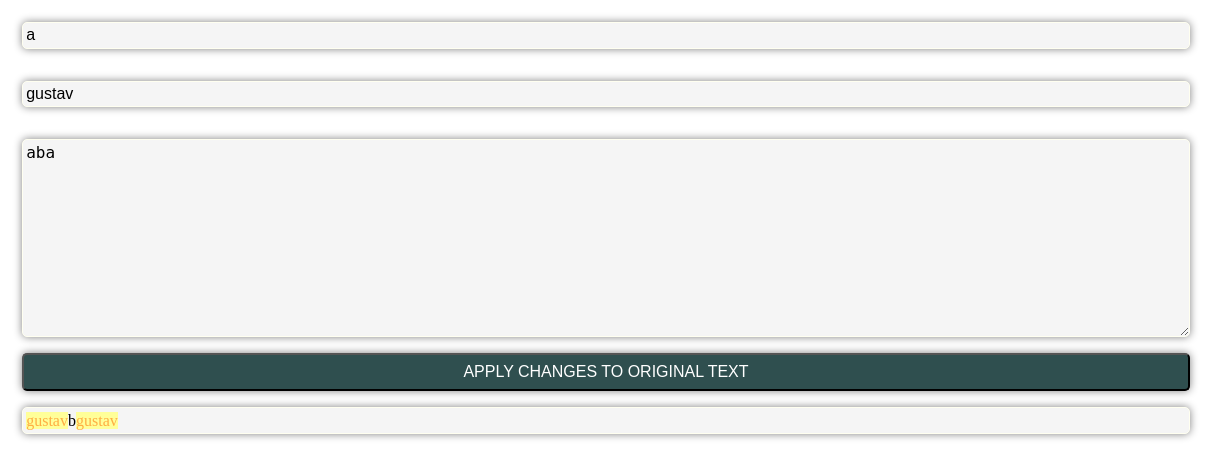
Test: FindAndReplace component › it should have the necessary components › has on mount a button that execute the change on the original text
Click the button with test id "make-replace-button" at (606, 372), box [22,353,1190,391]
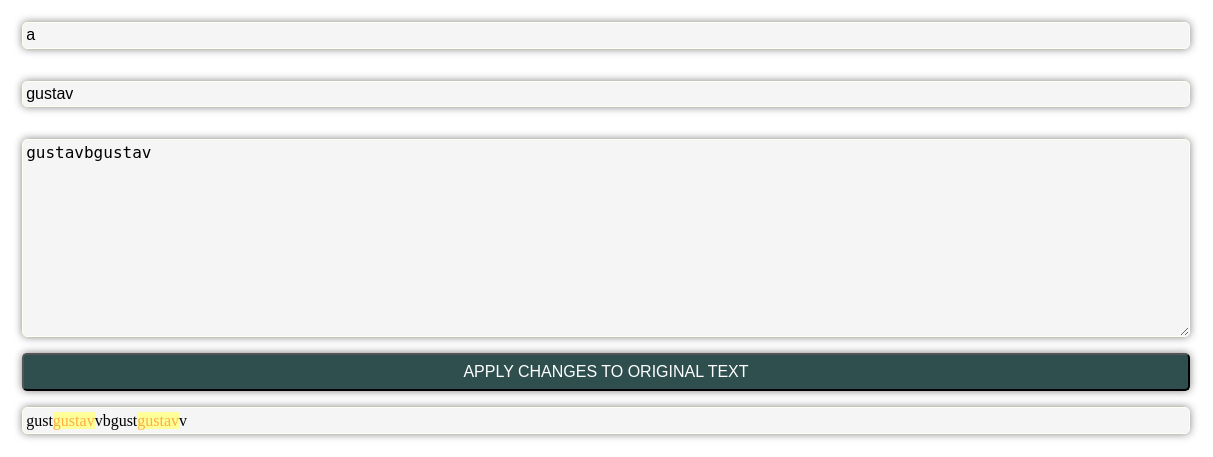
Check: the text box with test id "for-this-input" holds "gustavbgustav", box [22,139,1190,337]
